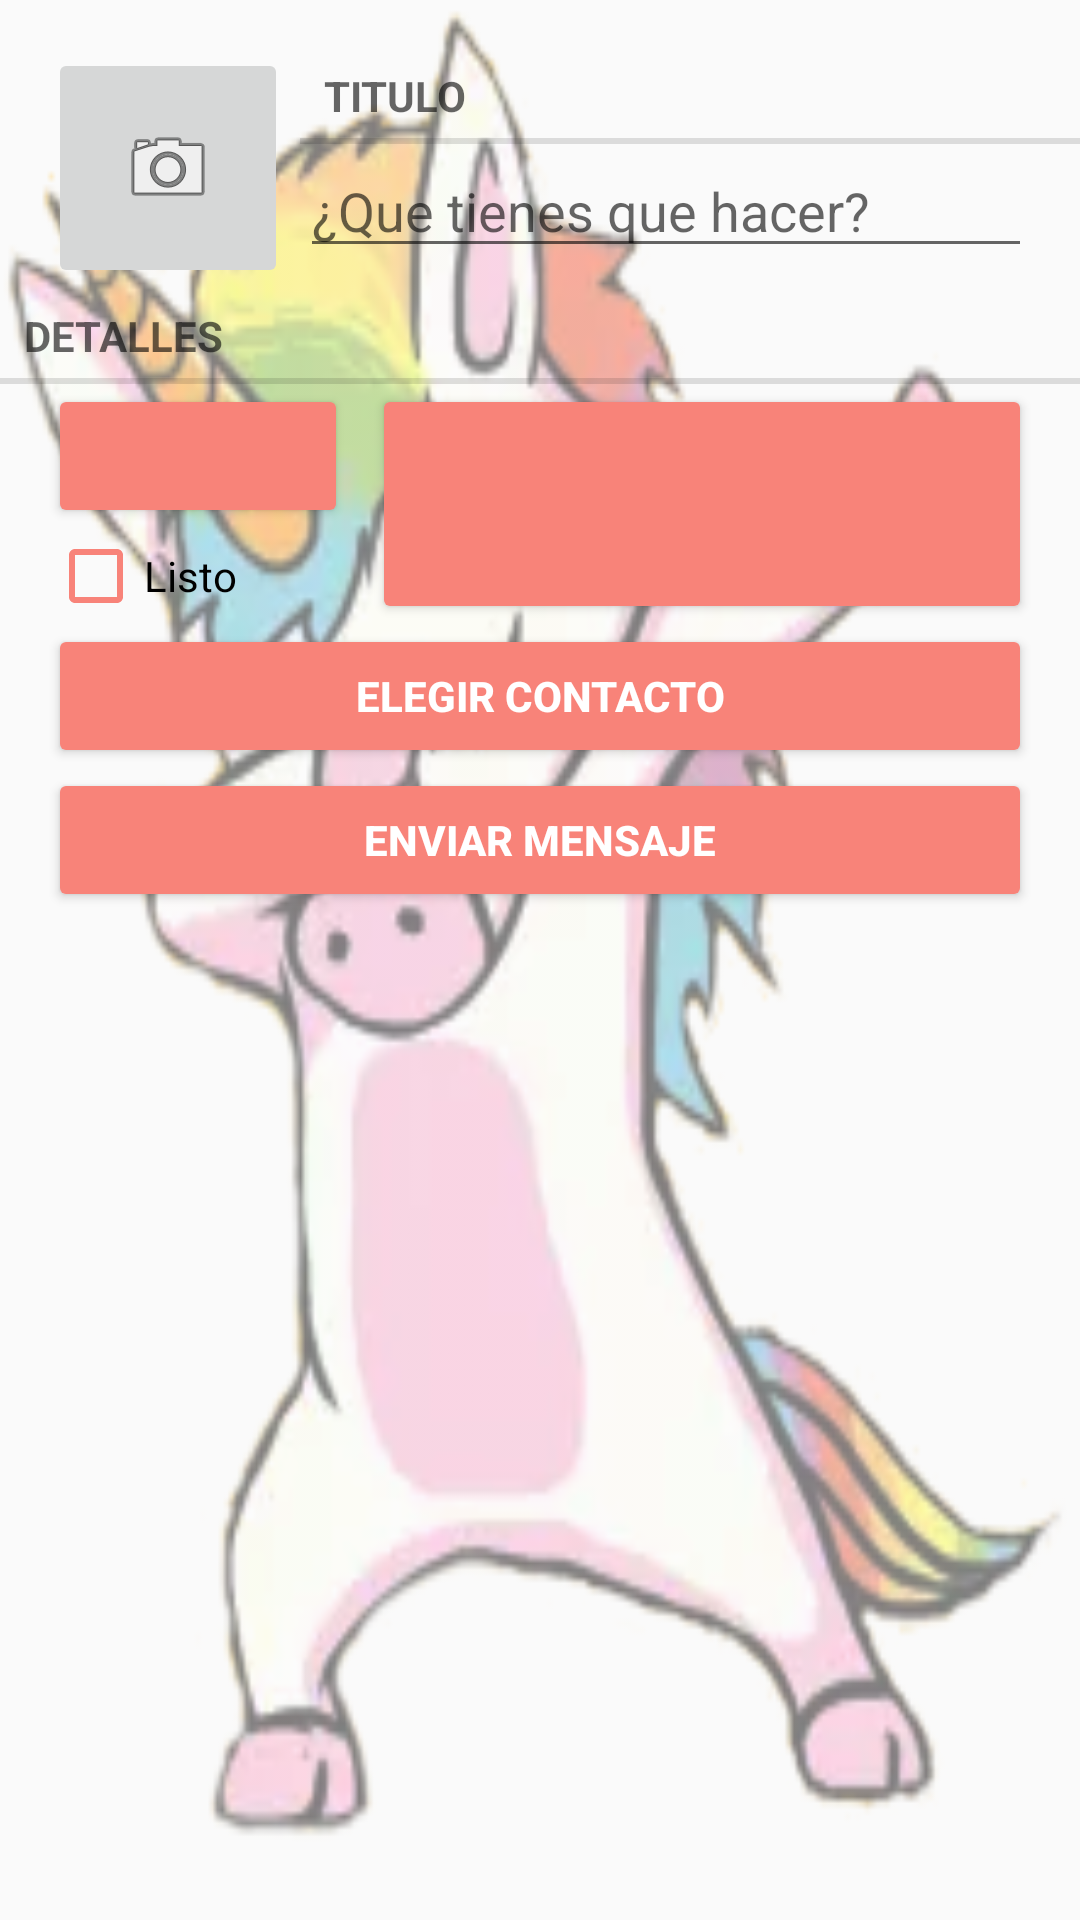

Named icons in this screenshot (1080x1920) and their centers, point (x, y):
camera: point (168, 168)
